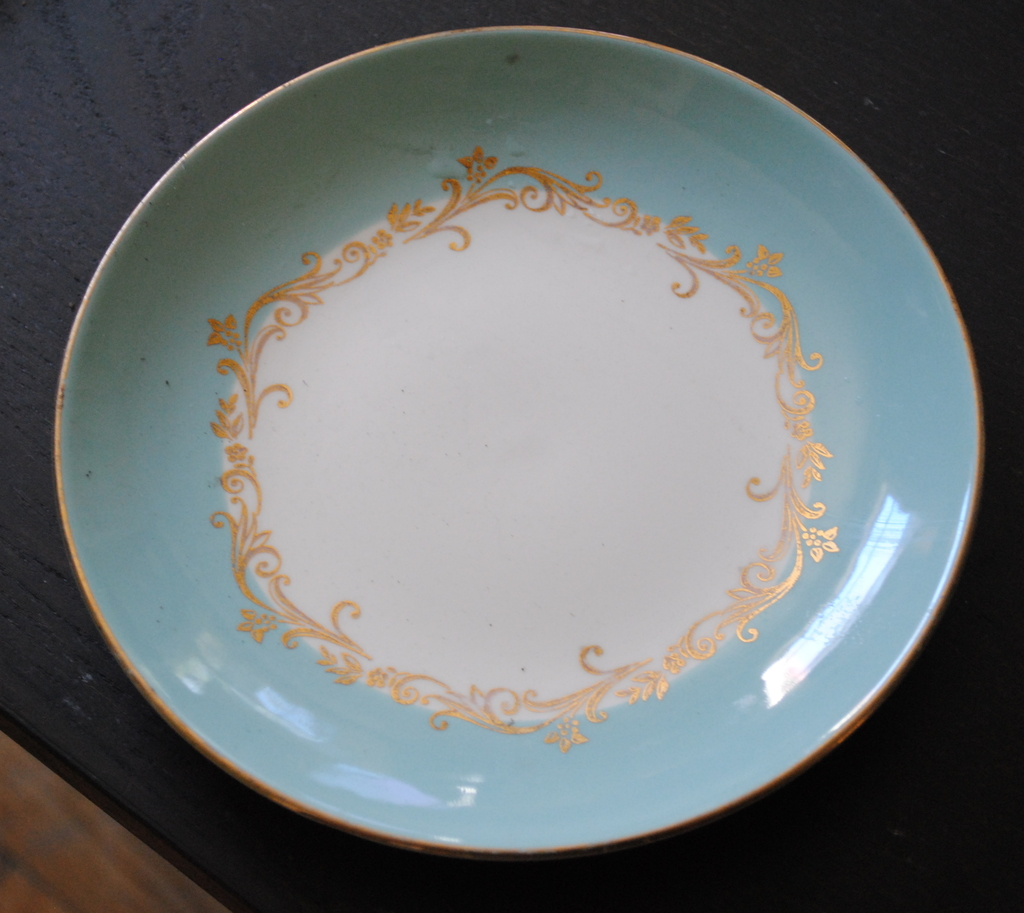plate: (54, 26, 988, 861)
